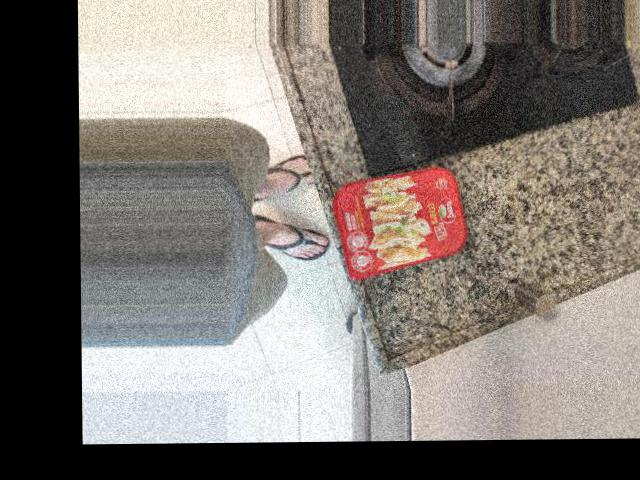cheese: (444, 144, 609, 260)
